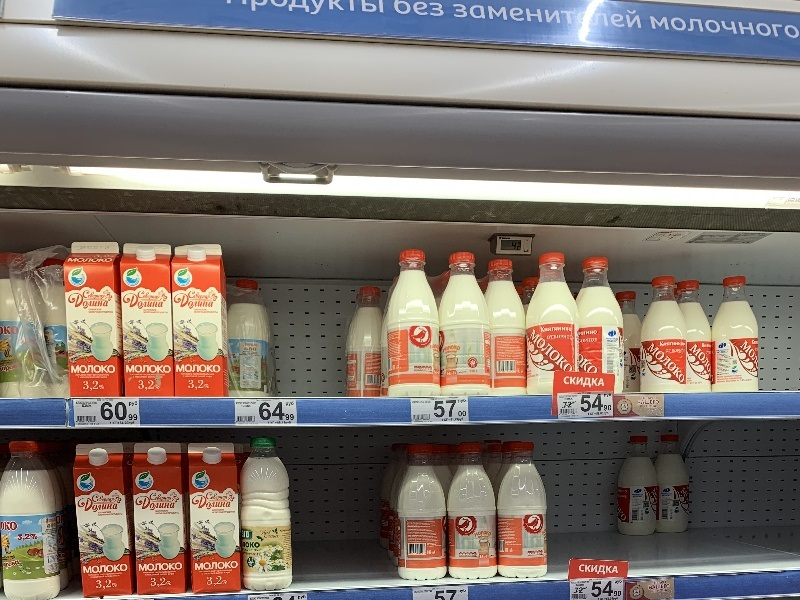milk: (110, 239, 184, 403), (68, 440, 139, 598), (62, 239, 128, 405), (1, 428, 64, 597), (169, 243, 234, 403), (434, 246, 500, 403), (129, 434, 194, 592), (183, 439, 247, 597), (239, 432, 298, 597), (442, 439, 505, 586), (392, 440, 455, 584), (521, 250, 579, 403), (388, 250, 445, 403), (481, 251, 537, 404), (494, 440, 550, 586), (711, 274, 771, 398), (576, 253, 631, 384), (639, 274, 688, 401), (614, 433, 664, 541), (650, 430, 698, 537)
